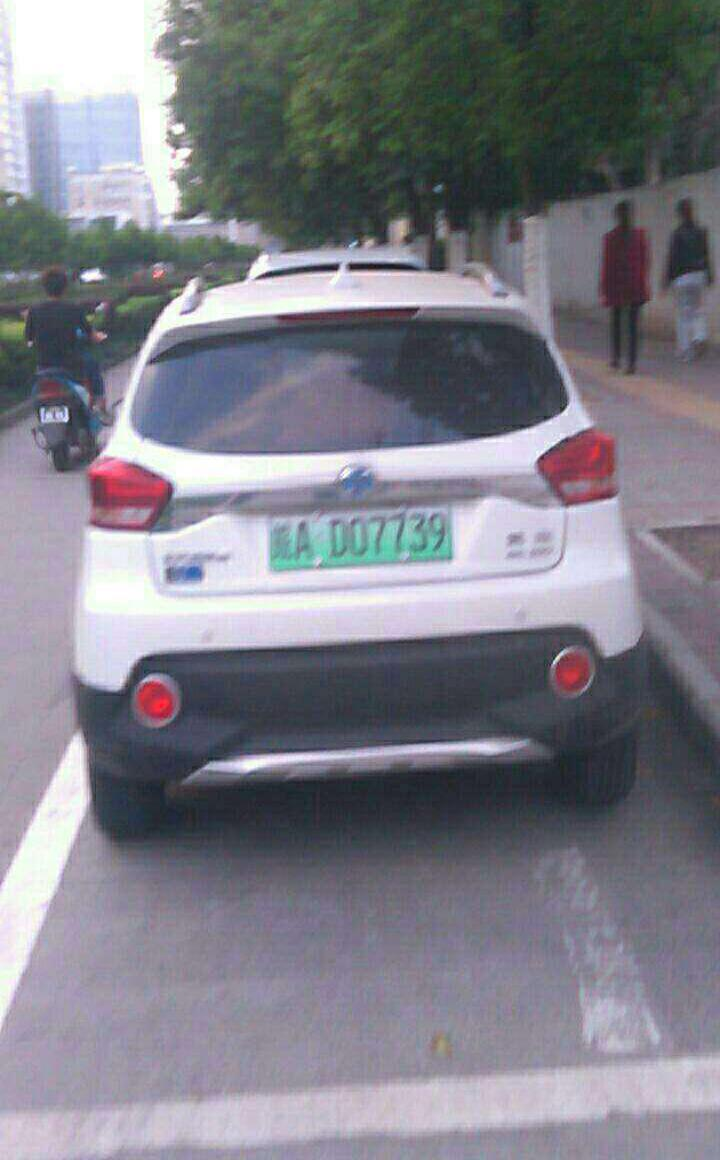car_green: (260, 505, 451, 571)
